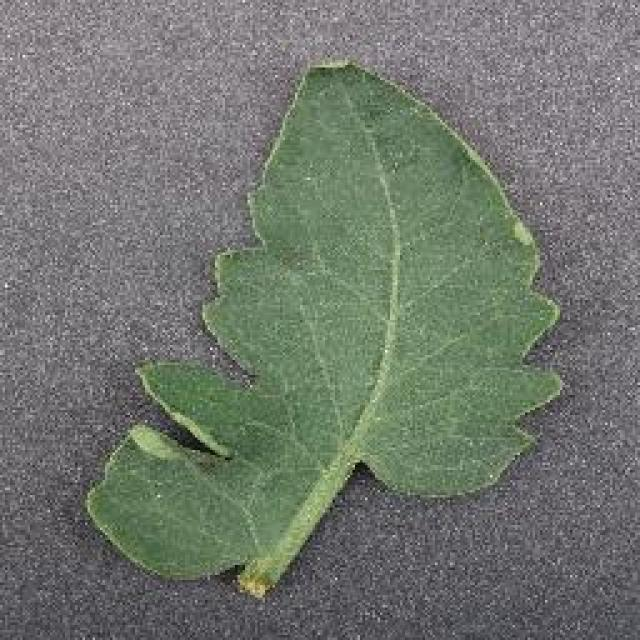healthy: (75, 63, 568, 600)
